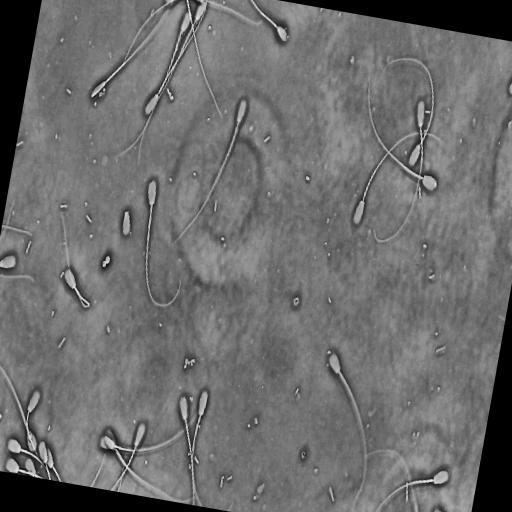dirt-particles: (100, 254, 111, 270)
folded-tail: (60, 211, 75, 287), (74, 287, 89, 307)
loose-head: (121, 208, 131, 237)
loose-tail: (183, 0, 225, 123)
normal: (101, 8, 192, 161), (167, 96, 247, 251), (348, 127, 444, 230), (362, 79, 437, 199), (87, 0, 175, 102), (321, 341, 371, 512), (372, 97, 427, 243), (142, 0, 208, 118), (139, 173, 186, 312), (100, 399, 209, 457), (382, 55, 435, 170), (373, 467, 450, 512), (59, 203, 91, 311), (188, 383, 211, 506), (177, 394, 195, 504)
